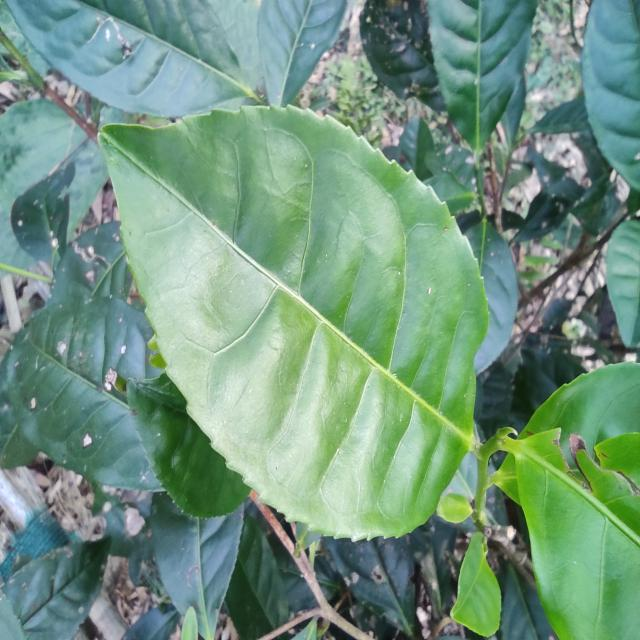Category D(7+ days, Not for Tea): (72, 92, 490, 550)
